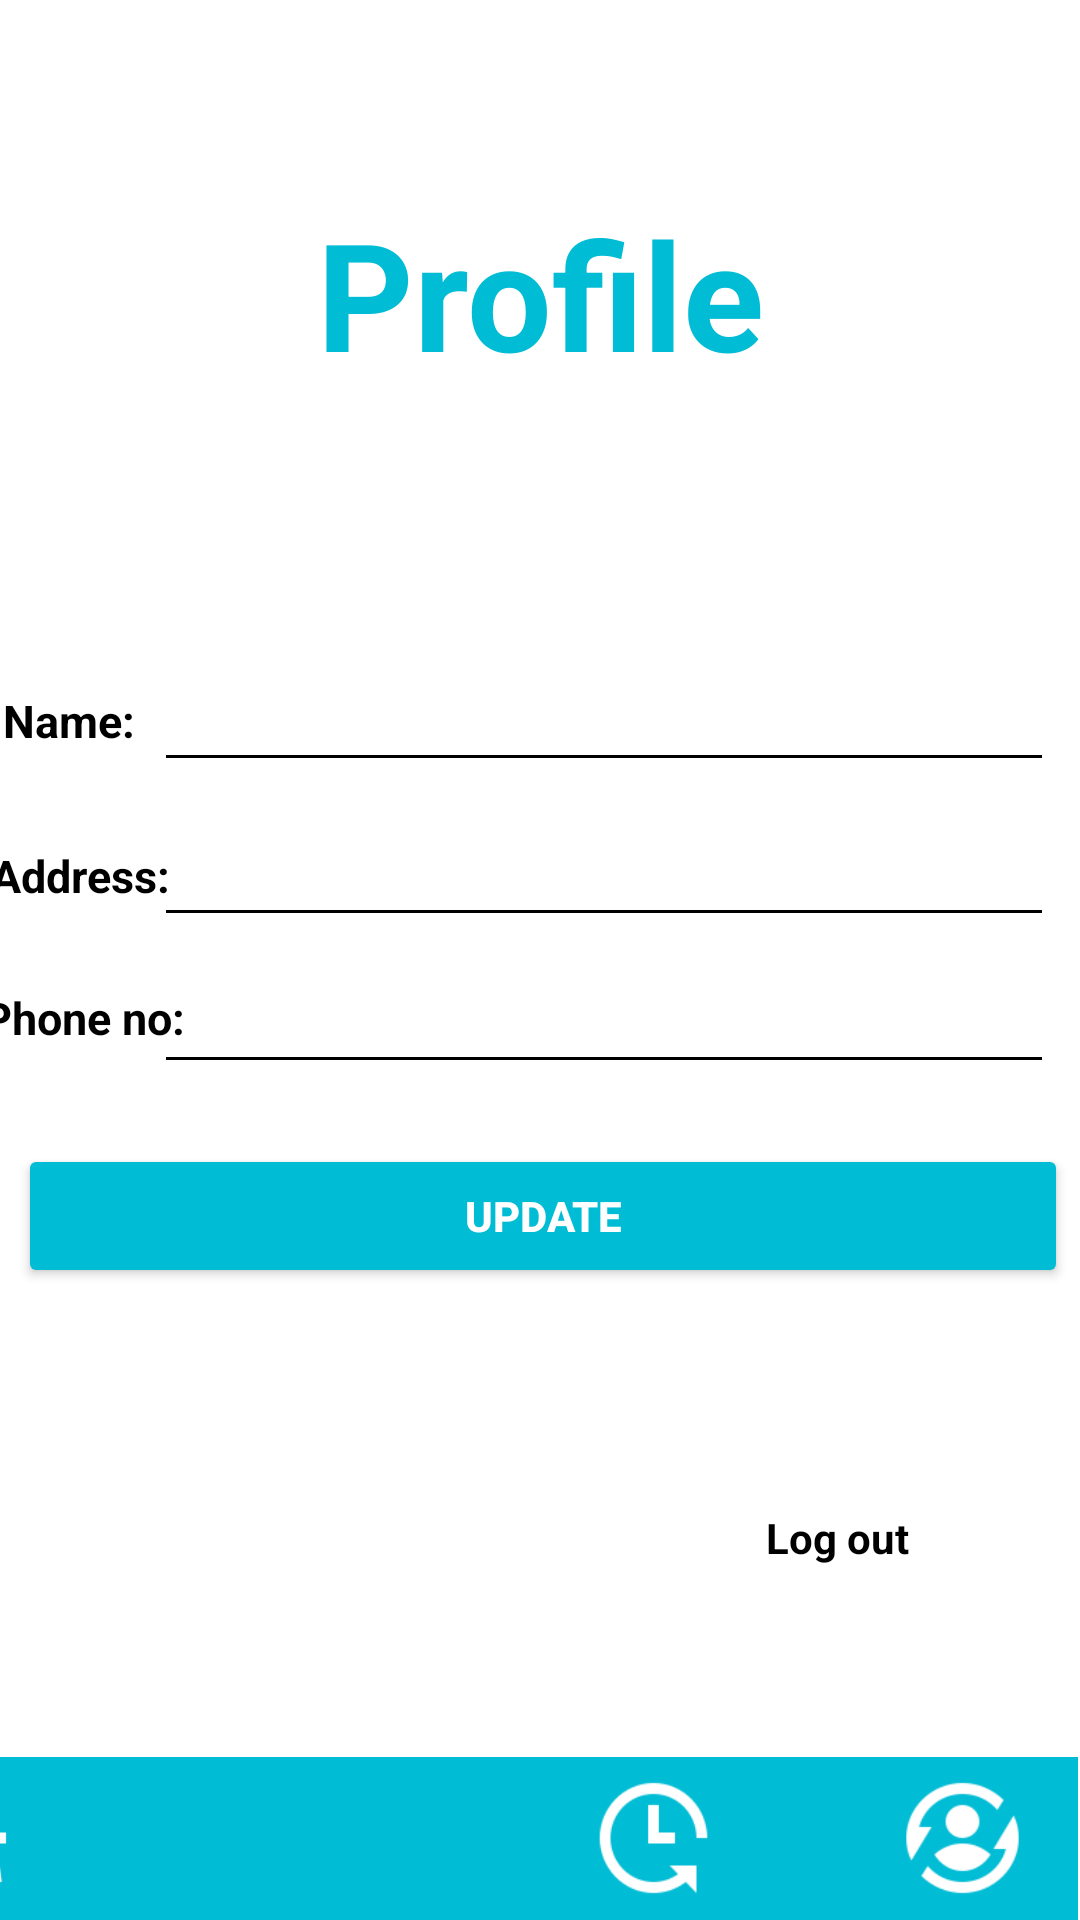

Point at icon controls on the screen. Image size 1080px x 1920px, points as (x,y).
deliverytime: (653,1838)
lifecycle: (962,1838)
